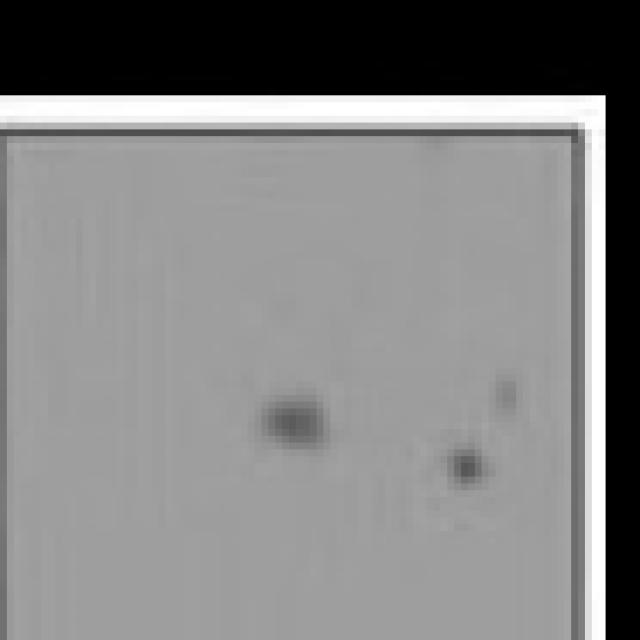Defect3: (228, 338, 369, 490), (451, 335, 544, 419), (411, 434, 519, 503)
